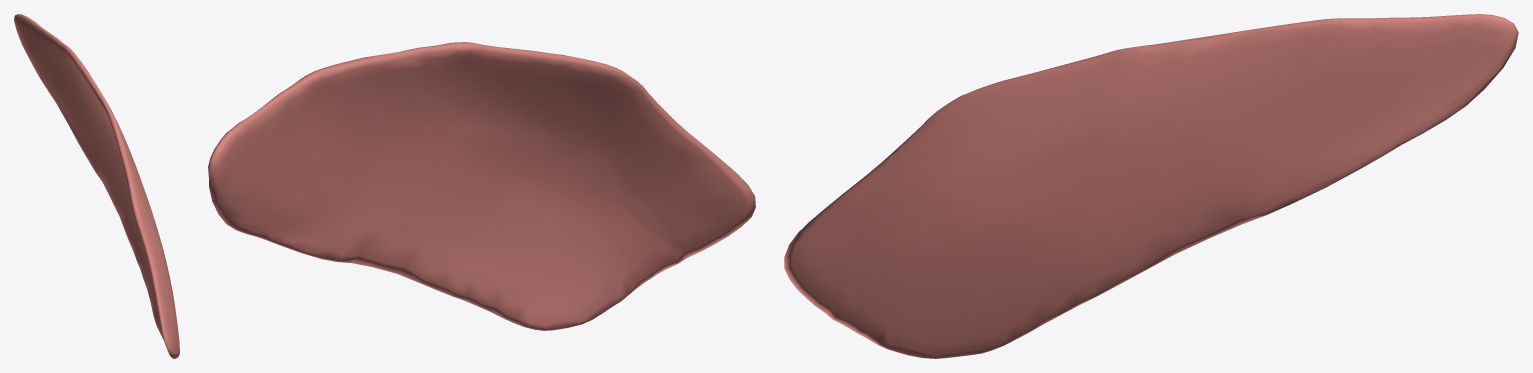
3 renders of one model, left to right at view 1: azimuth 30°, elevation 25°; view 2: azimuth 150°, elevation 25°; view 3: azimuth 270°, elevation 25°, orthographic. The views are drawn at different scales.
Parts seen in each view (by area): view 1: ZA_233213c5ebef3f3c; view 2: ZA_233213c5ebef3f3c; view 3: ZA_233213c5ebef3f3c.
Boxes of the visible parts, x1=… form: ZA_233213c5ebef3f3c: x1=14, y1=14, x2=179, y2=358; ZA_233213c5ebef3f3c: x1=208, y1=42, x2=755, y2=330; ZA_233213c5ebef3f3c: x1=784, y1=14, x2=1518, y2=358.
Size of the model in its own units: 0.00674 by 0.0181 by 0.0336.
